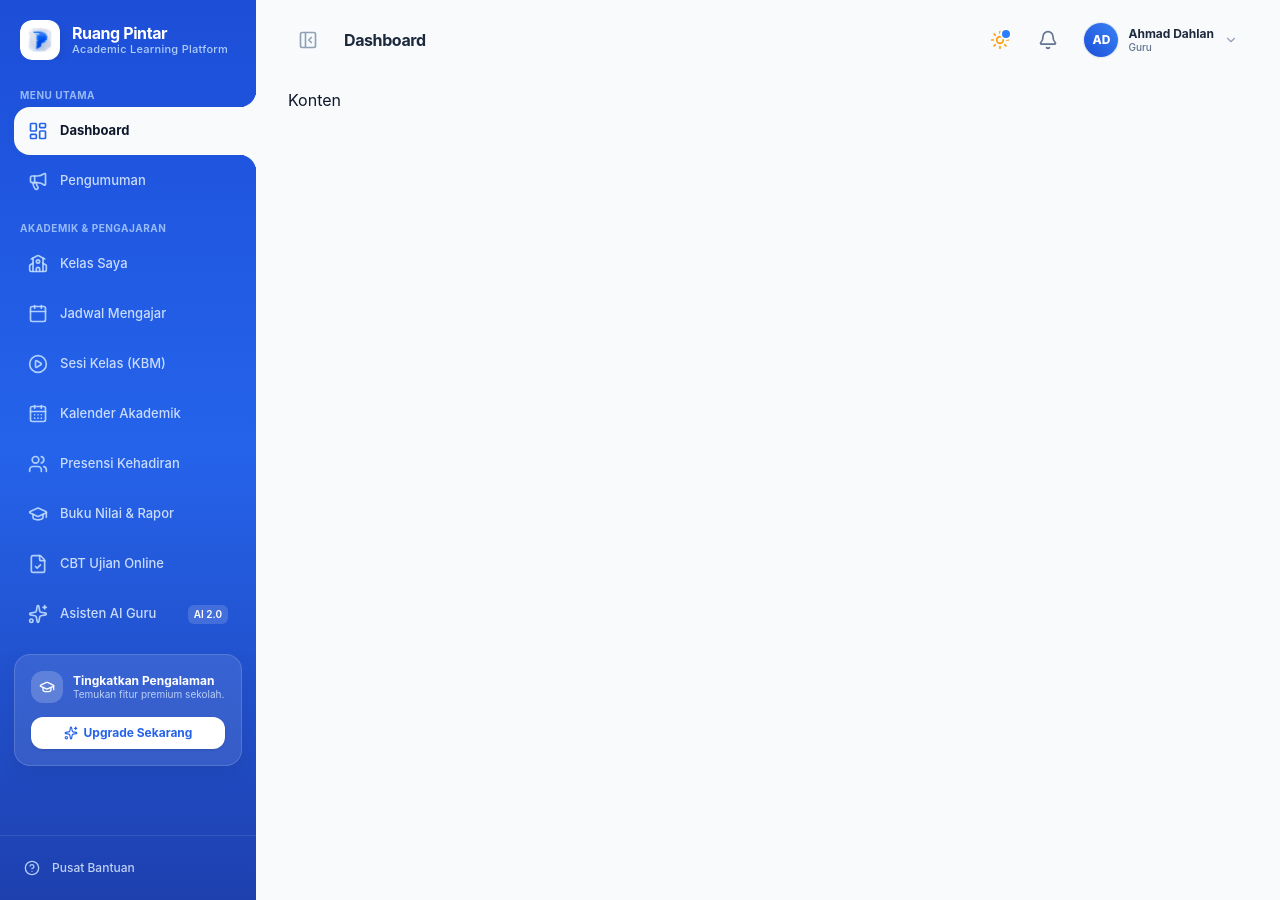
it: AcademicShell Component (Phase 05) › toggles sidebar compact rail on collapse button click
Click the button named "Ciutkan Sidebar" at (308, 40), box [288,20,328,60]
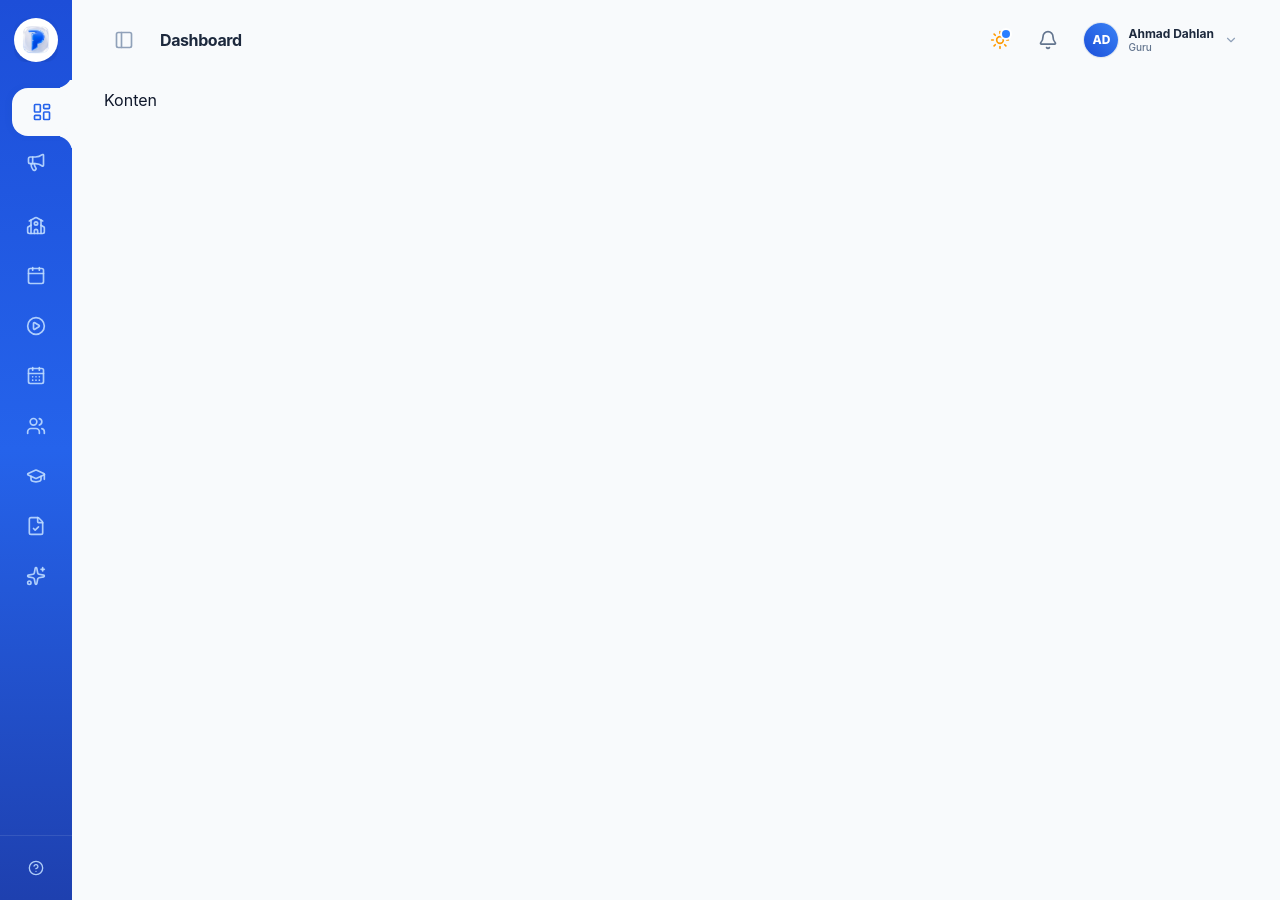
Expected: the button named "Perluas Sidebar" is shown, [104,20,144,60]
